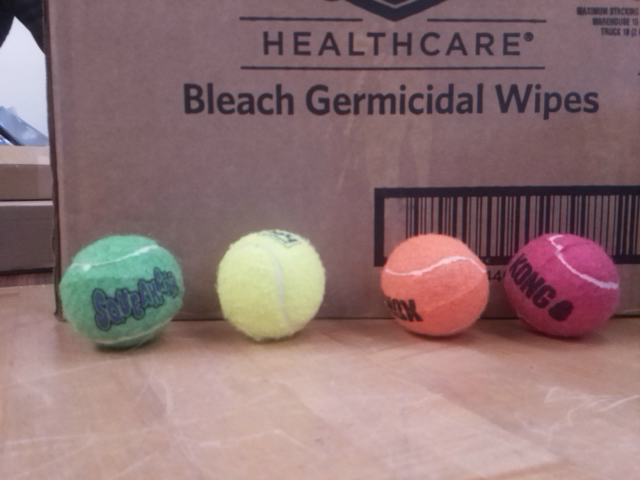green-ball: (57, 232, 186, 353)
orange-ball: (379, 232, 492, 342)
red-ball: (501, 231, 622, 341)
yellow-ball: (214, 228, 328, 346)
